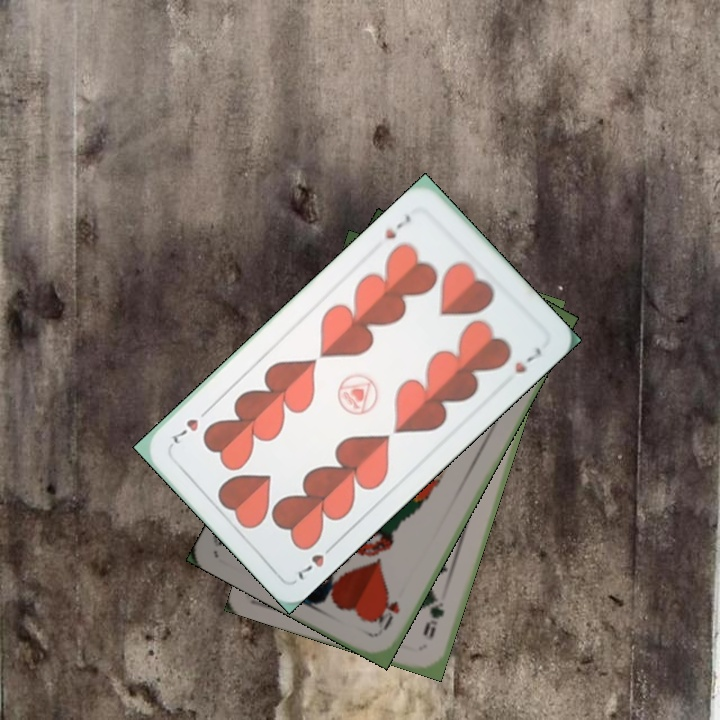G9: (419, 590, 447, 642)
H7: (293, 538, 339, 583), (381, 210, 413, 242)
HO: (373, 592, 403, 633)
